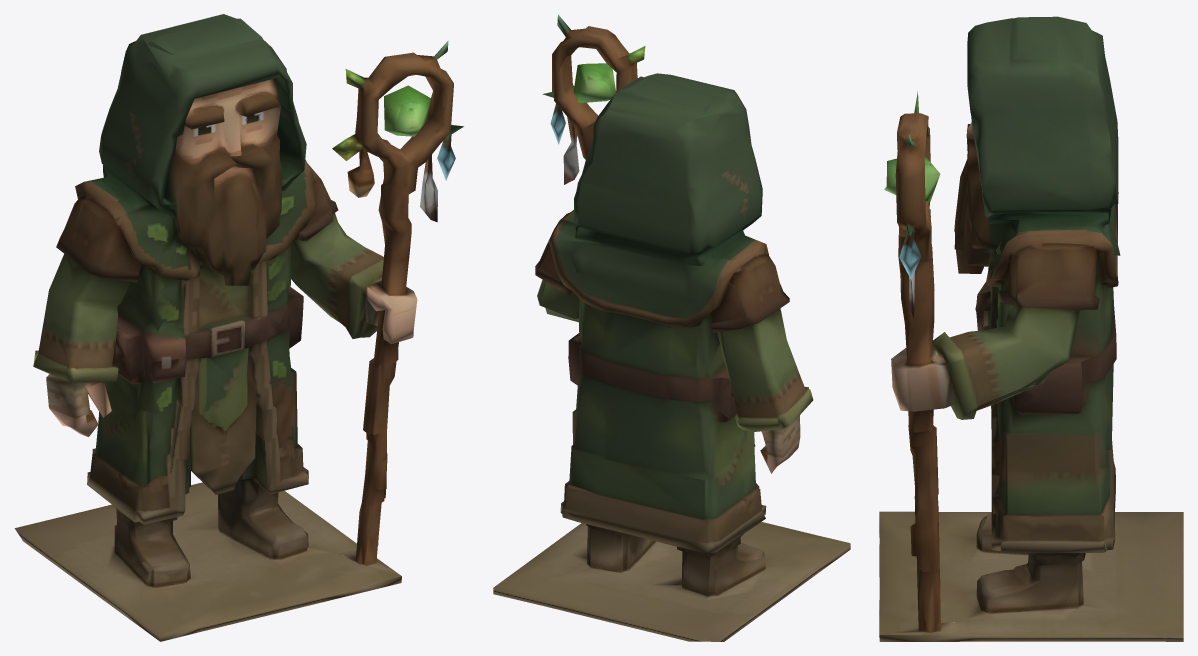
Rendered from druid.glb.
The picture shows the model from 3 angles, left to right: view 1: azimuth 30°, elevation 25°; view 2: azimuth 150°, elevation 25°; view 3: azimuth 270°, elevation 25°; orthographic projection. The views are drawn at different scales.
Parts seen in each view (by area): view 1: Mesh::generatedModels/0uWRDYcMec1odqlWuIg6.gltf; view 2: Mesh::generatedModels/0uWRDYcMec1odqlWuIg6.gltf; view 3: Mesh::generatedModels/0uWRDYcMec1odqlWuIg6.gltf.
Part boxes in pixels (x1,y1,x2,y2): Mesh::generatedModels/0uWRDYcMec1odqlWuIg6.gltf: (14,14,463,641); Mesh::generatedModels/0uWRDYcMec1odqlWuIg6.gltf: (493,14,850,641); Mesh::generatedModels/0uWRDYcMec1odqlWuIg6.gltf: (879,16,1183,641).
Bounding box in the file's own units: 0.7009 × 1 × 0.5063.
Materials: 1 (1 with a texture image).
